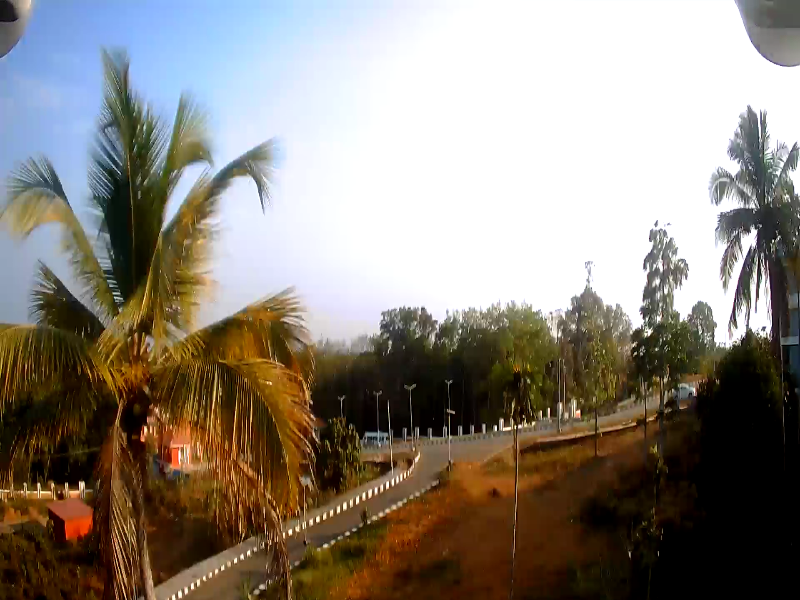coconut: (125, 400, 137, 412)
